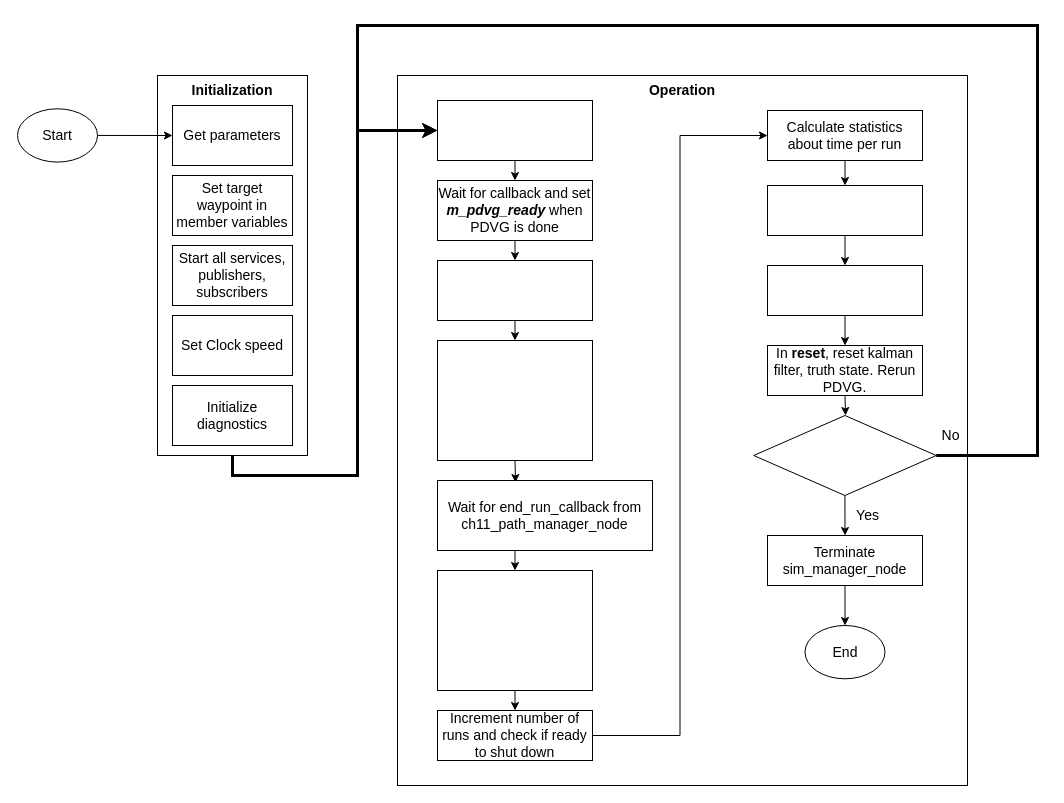
This 1064x803 diagram has some shape labels left out. The centre of each missing label's shape, as x and y in pixels:
After m_finished_run is checked and found true, call reset: point (844, 290)
Call toggle_services to turn off: Dynamics State Listener Kalman Filter: point (514, 630)
Call toggle_services to turn on: Dynamics State Listener Kalman Filter: point (514, 400)
Finished all runs?: point (844, 455)
If m_pdvg_ready, call start_run: point (514, 290)
Make call to PDVG to set waypoint: point (514, 130)
Set m_pdvg_ready to false and m_finished_run to true: point (844, 210)
